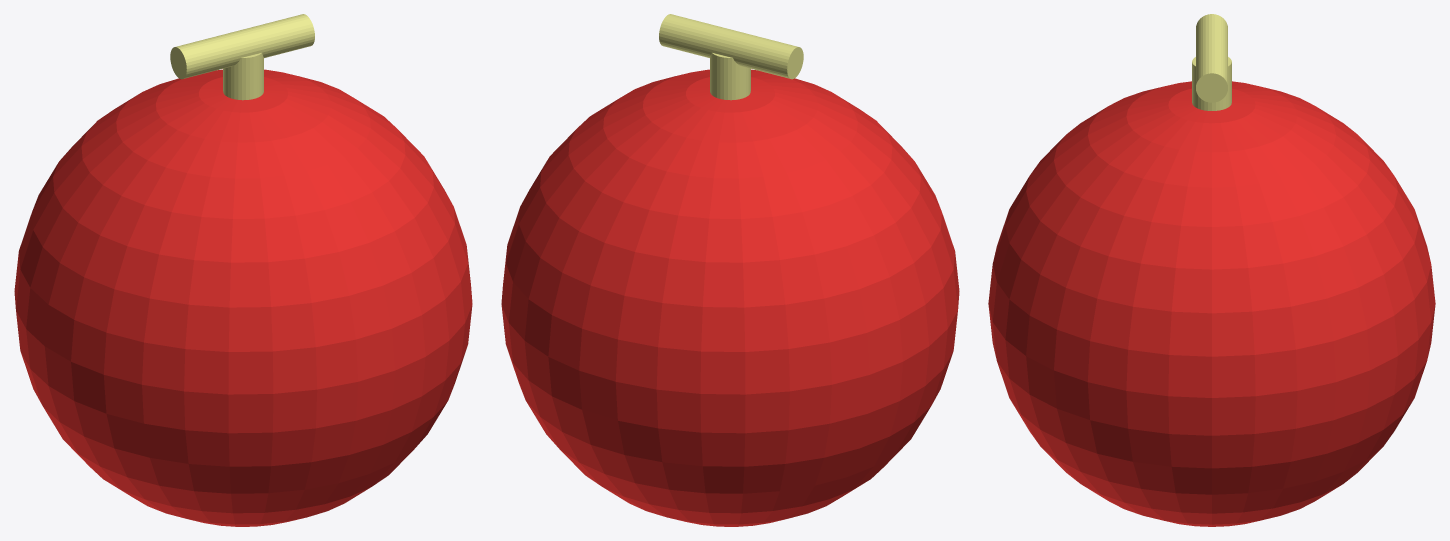
Rendered from kudamono.fbx.
3 renders of one model, left to right at view 1: azimuth 30°, elevation 25°; view 2: azimuth 150°, elevation 25°; view 3: azimuth 270°, elevation 25°, orthographic. The views are drawn at different scales.
Visible parts, largest first — view 1: 球, 円柱; view 2: 球, 円柱; view 3: 球, 円柱.
Part boxes in pixels (x1,y1,x2,y2): 球: [14, 69, 472, 526]; 円柱: [170, 14, 314, 100]; 球: [501, 69, 959, 526]; 円柱: [659, 14, 803, 100]; 球: [988, 81, 1435, 526]; 円柱: [1192, 14, 1231, 110].
Size of the model in its own units: 200 by 228 by 200.
